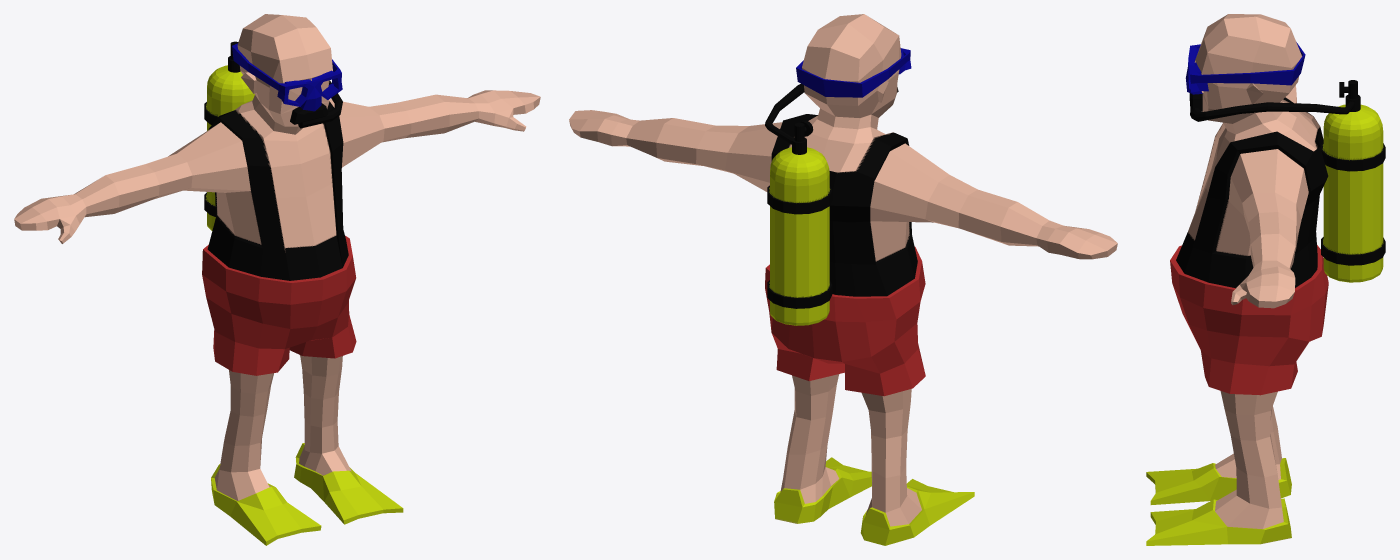
File: diverson (1).fbx
3 renders of one model, left to right at view 1: azimuth 30°, elevation 25°; view 2: azimuth 150°, elevation 25°; view 3: azimuth 270°, elevation 25°, orthographic. The views are drawn at different scales.
Visible parts, largest first — view 1: base el.005, base el.001; view 2: base el.005, base el.001; view 3: base el.005, base el.001.
Boxes of the visible parts, x1,y1,x2,y2 form: base el.005: (14,14,540,545); base el.001: (232,43,342,111); base el.005: (569,14,1117,545); base el.001: (796,48,911,97); base el.005: (1146,14,1385,545); base el.001: (1185,42,1305,94).
Bounding box in the file's own units: 916 × 800 × 351.
